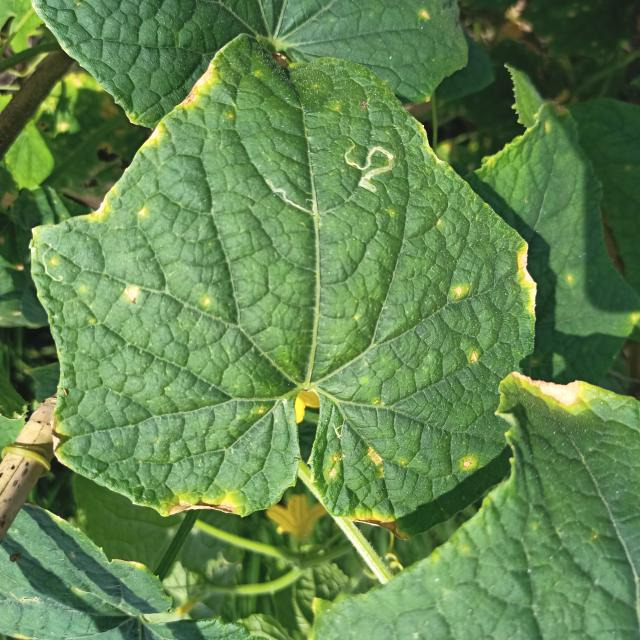disease_cucumber: (324, 442, 408, 542), (77, 188, 152, 228), (442, 281, 472, 303), (118, 284, 144, 306), (456, 453, 478, 473), (467, 349, 482, 364)
